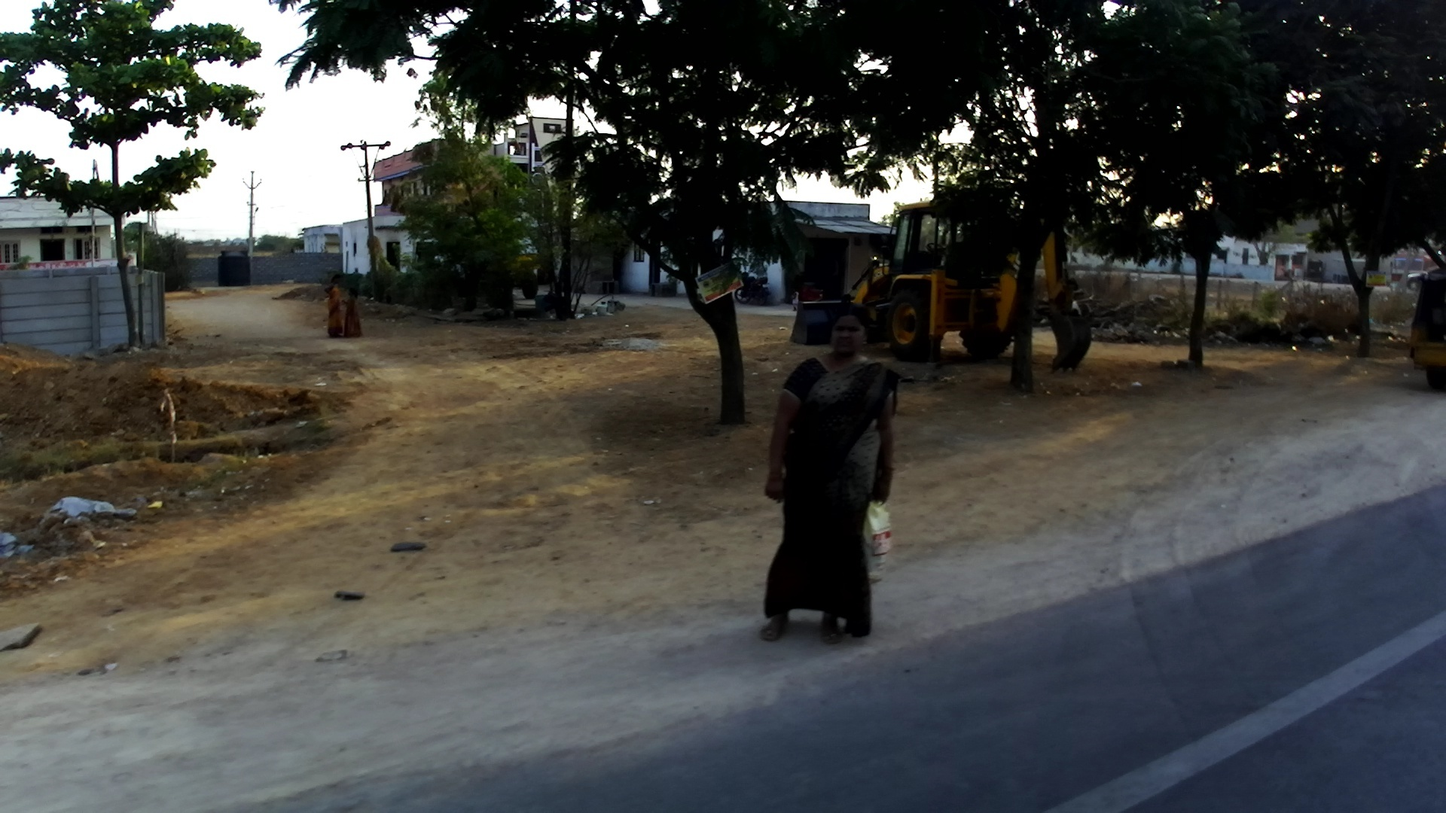autorickshaw: (1405, 271, 1444, 393)
motorcycle: (734, 271, 773, 307)
person: (756, 300, 905, 656), (319, 274, 349, 344), (338, 285, 368, 338)
vehicle fallback: (783, 181, 1097, 375), (504, 257, 544, 309)
